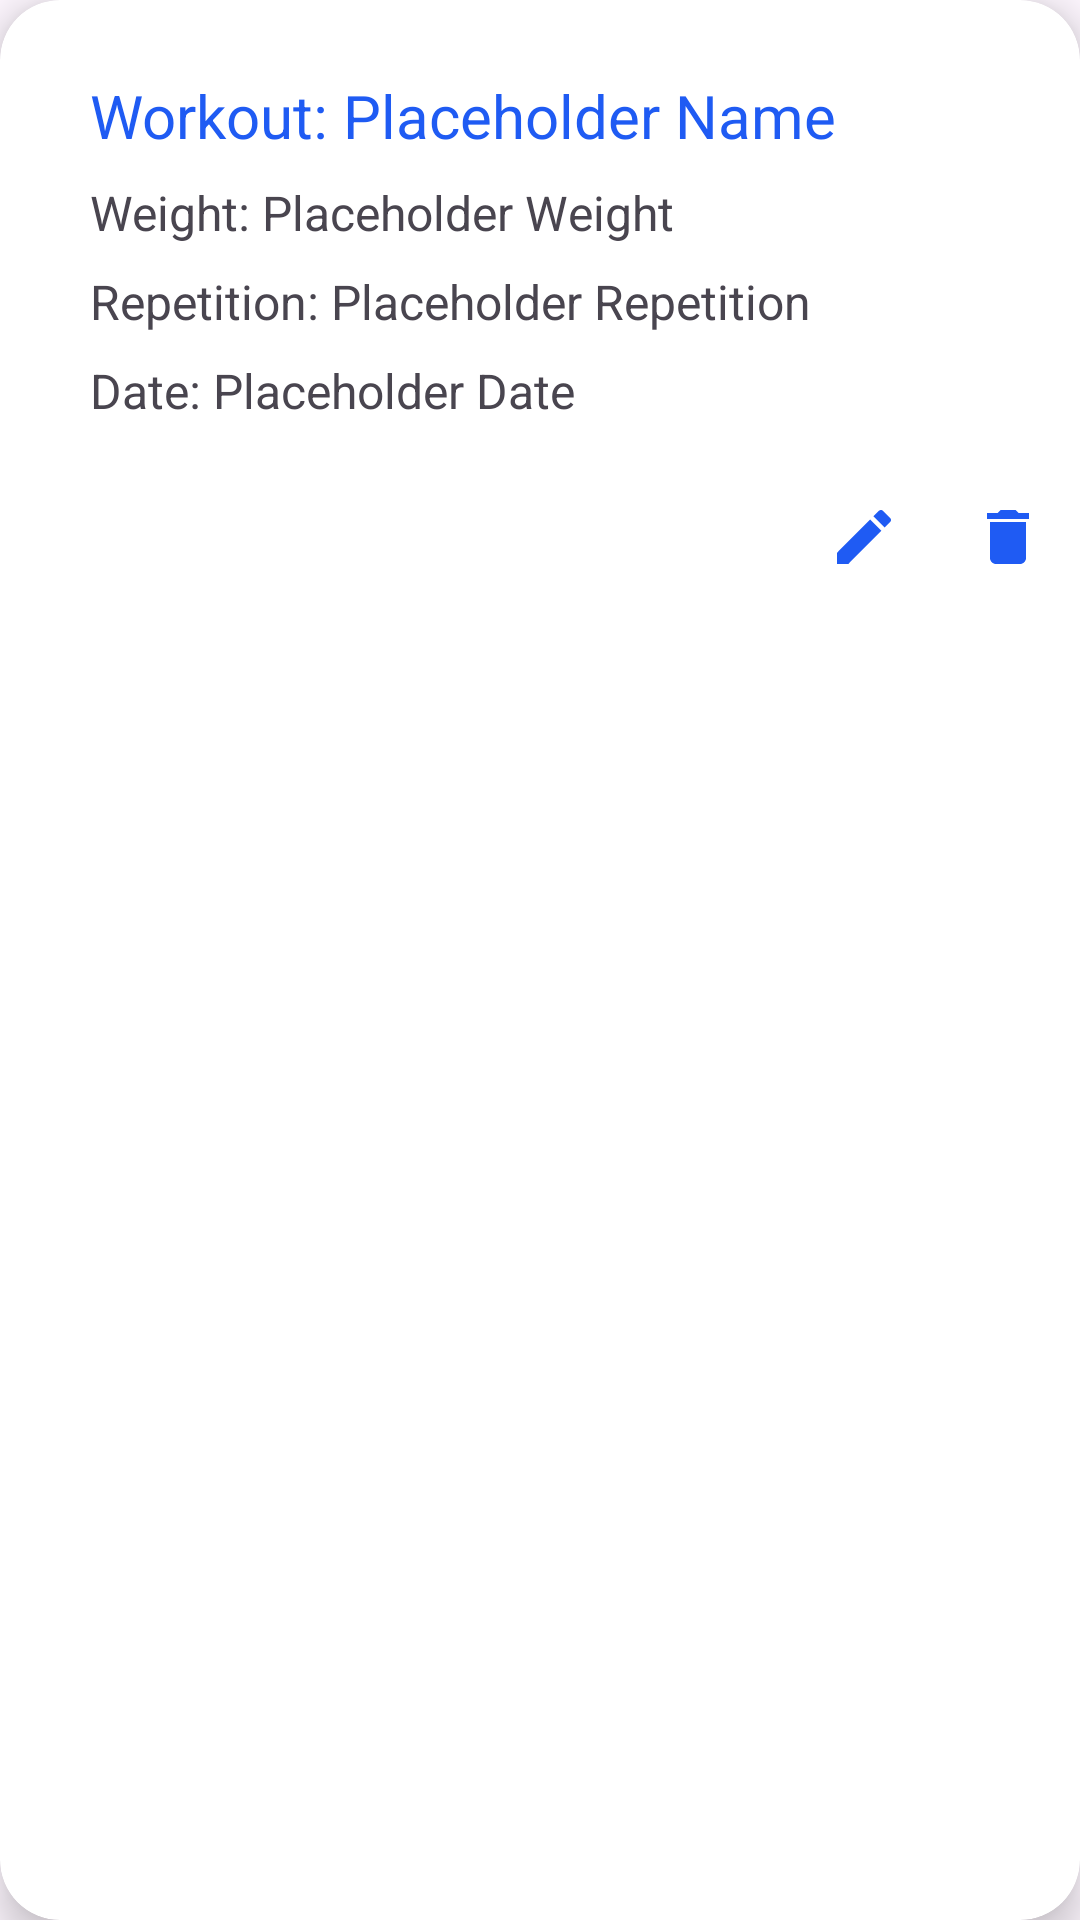

Point at icon controls on the screen. Image size 1080px×1920px, points as (x,y).
Delete Workout: (1008,537)
Edit Workout: (864,537)
